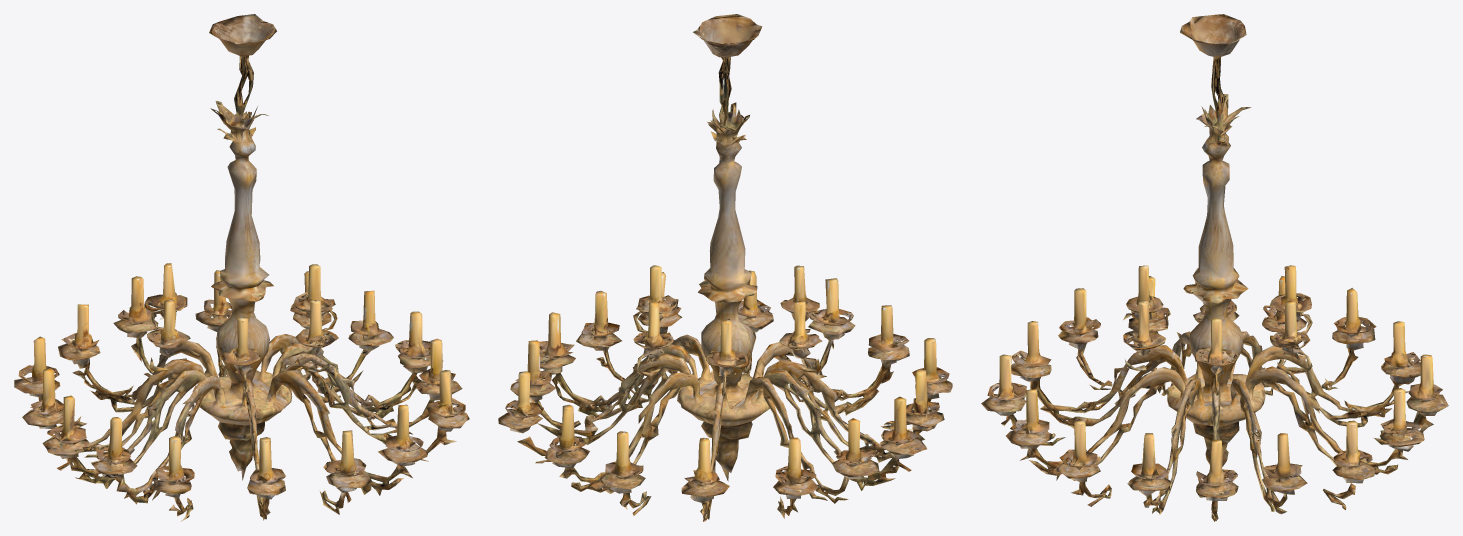
Rendered from golden.glb.
The picture shows the model from 3 angles, left to right: view 1: azimuth 30°, elevation 25°; view 2: azimuth 150°, elevation 25°; view 3: azimuth 270°, elevation 25°; orthographic projection.
Size of the model in its own units: 1.78 by 1.96 by 1.84.
Materials: 1 (1 with a texture image).
